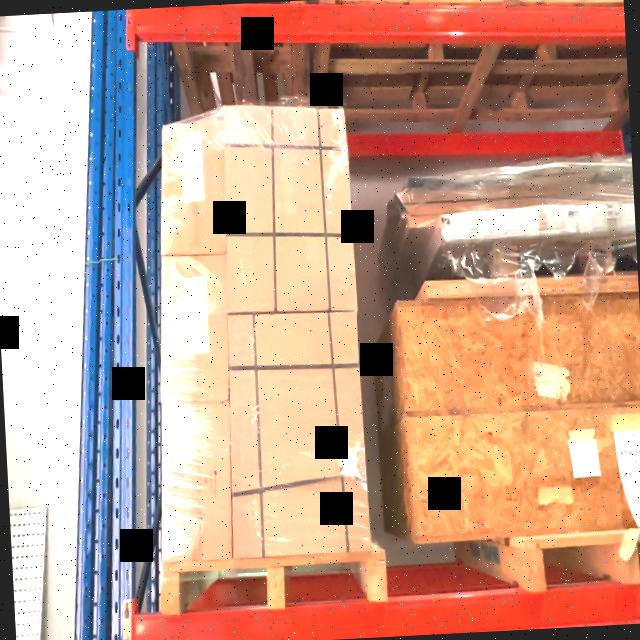box: (225, 316, 370, 555), (223, 110, 354, 314), (162, 398, 232, 560), (160, 256, 232, 400), (160, 118, 228, 255)
